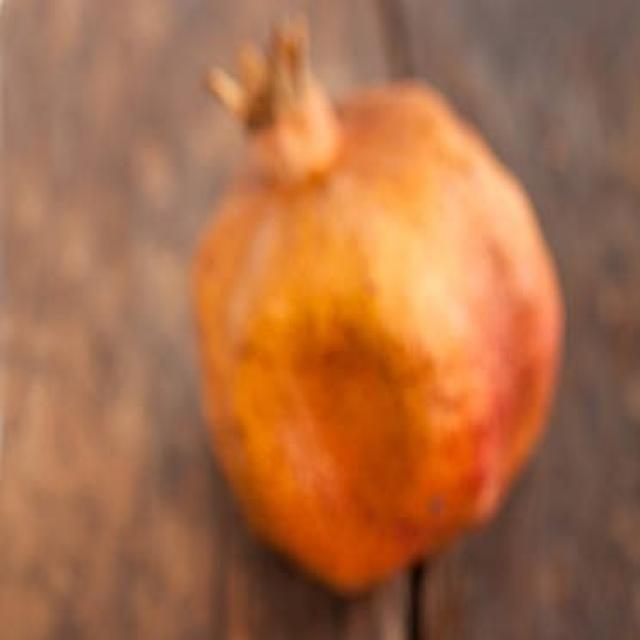overripe: (190, 19, 568, 596)
